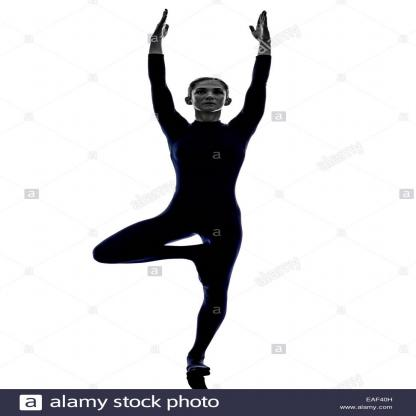tree: (84, 5, 292, 390)
